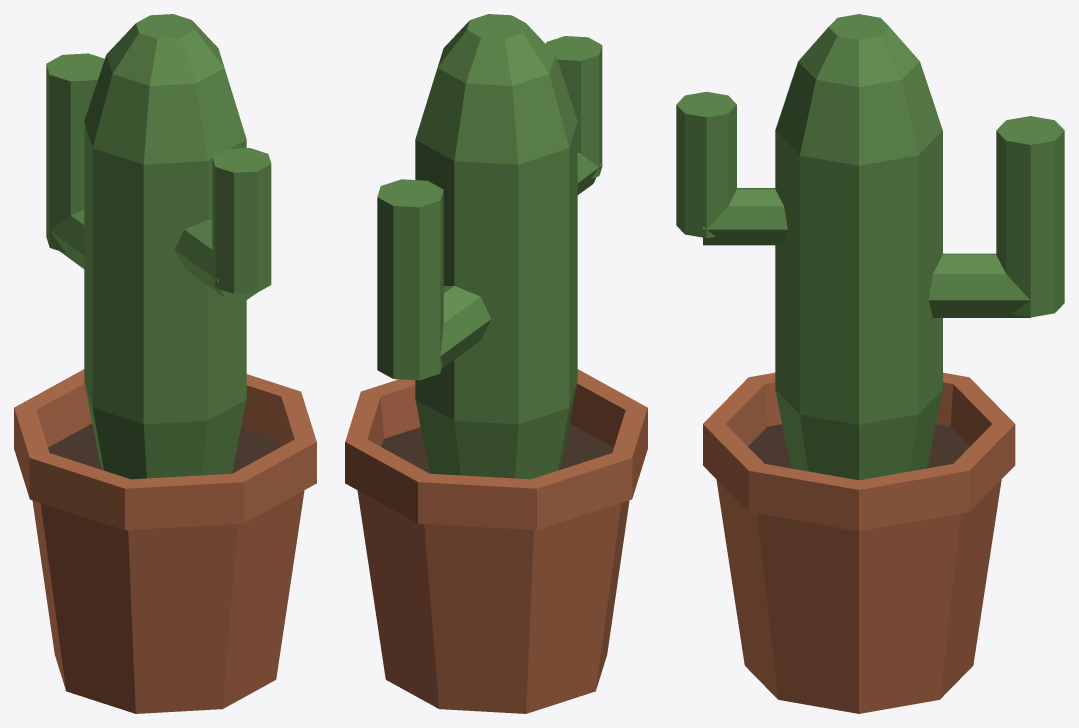
File: Plantita.fbx
The picture shows the model from 3 angles, left to right: view 1: azimuth 30°, elevation 25°; view 2: azimuth 150°, elevation 25°; view 3: azimuth 270°, elevation 25°; orthographic projection.
Parts seen in each view (by area): view 1: Deco_Planta_Chica_Ventana; view 2: Deco_Planta_Chica_Ventana; view 3: Deco_Planta_Chica_Ventana.
Part boxes in pixels (x1,y1,x2,y2): Deco_Planta_Chica_Ventana: (14, 14, 316, 713); Deco_Planta_Chica_Ventana: (345, 14, 647, 713); Deco_Planta_Chica_Ventana: (676, 14, 1064, 713).
Size of the model in its own units: 0.082 by 0.185 by 0.102.
